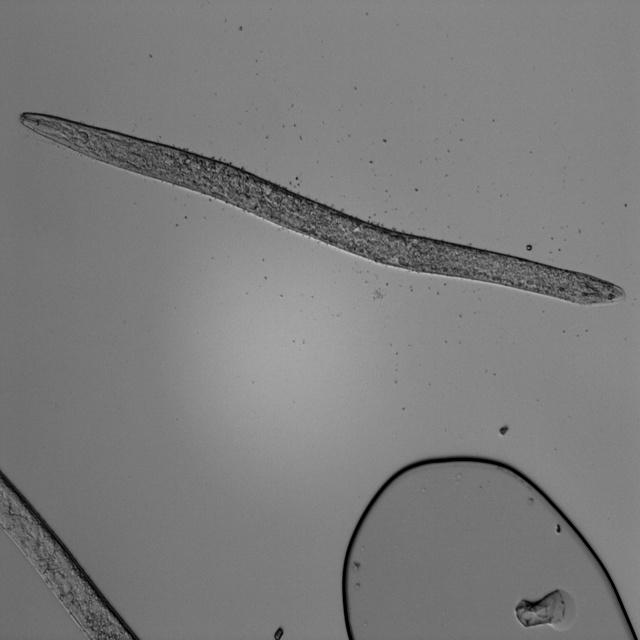Pratylenchus: (11, 111, 634, 317)
